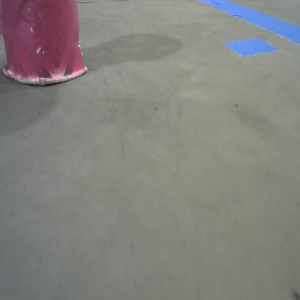middle: (1, 1, 88, 84)
